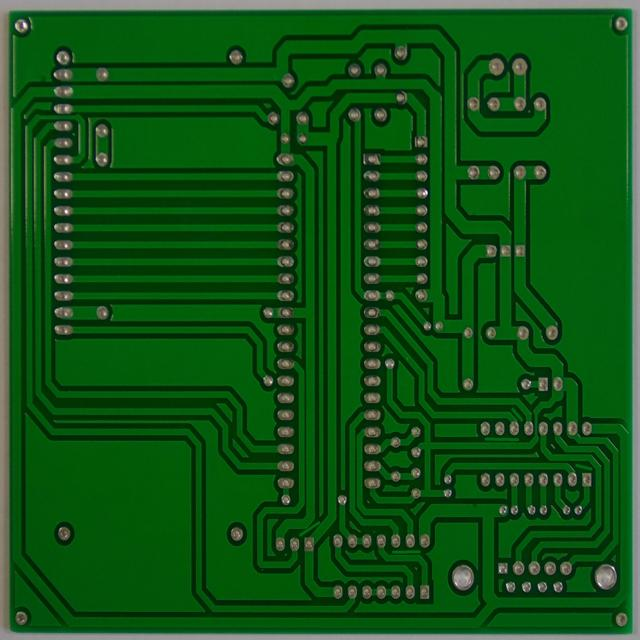spurious_copper: (388, 544, 426, 558), (294, 519, 322, 537), (481, 433, 521, 445), (508, 405, 524, 425), (572, 461, 595, 474)
